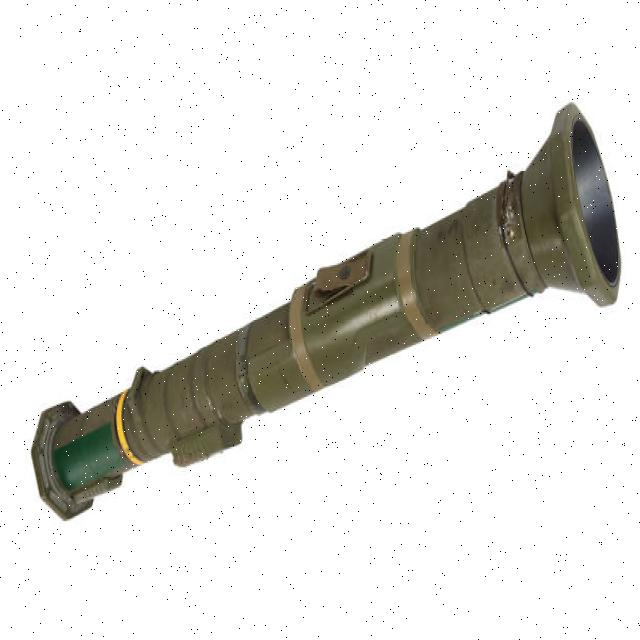bazooka: (26, 95, 629, 532)
